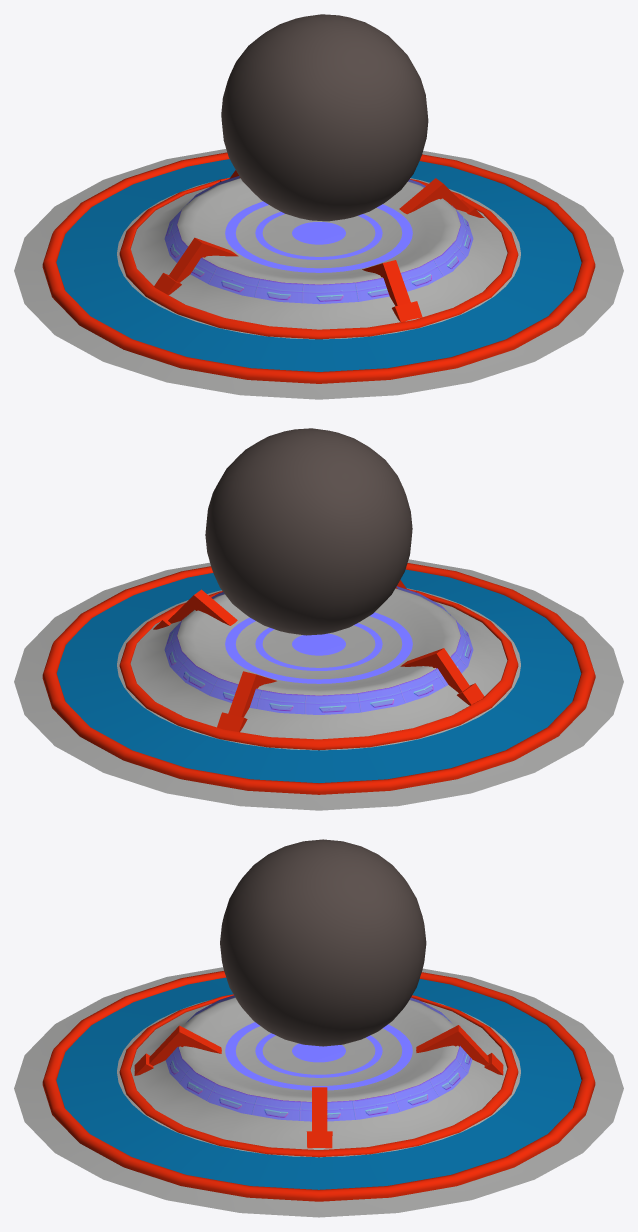
File: S_engrais.fbx
3 renders of one model, top to bottom at view 1: azimuth 30°, elevation 25°; view 2: azimuth 150°, elevation 25°; view 3: azimuth 270°, elevation 25°, orthographic.
Visible parts, largest first — view 1: S_Engrais_plateforme, S_engrais_glass; view 2: S_Engrais_plateforme, S_engrais_glass; view 3: S_Engrais_plateforme, S_engrais_glass.
Boxes of the visible parts, x1,y1,x2,y2 form: S_Engrais_plateforme: (14,149,623,399); S_engrais_glass: (221,14,428,221); S_Engrais_plateforme: (14,559,623,810); S_engrais_glass: (205,428,412,635); S_Engrais_plateforme: (14,967,623,1217); S_engrais_glass: (220,839,426,1046).
Size of the model in its own units: 3032 by 1336 by 3032.
